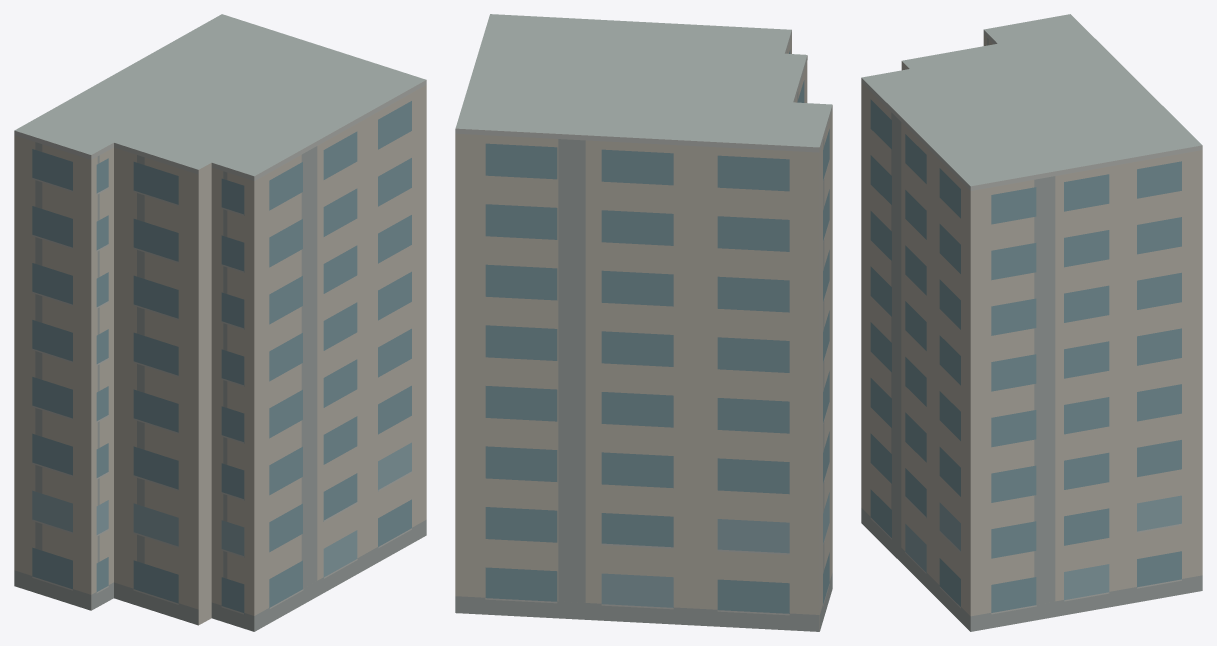
The model's file is survey-upis-33025195.glb.
The picture shows the model from 3 angles, left to right: view 1: azimuth 30°, elevation 25°; view 2: azimuth 150°, elevation 25°; view 3: azimuth 270°, elevation 25°; orthographic projection. The views are drawn at different scales.
Visible parts, largest first — view 1: survey-upis-33025195.tmp; view 2: survey-upis-33025195.tmp; view 3: survey-upis-33025195.tmp.
Boxes of the visible parts, bbox=[...] form: survey-upis-33025195.tmp: bbox=[14, 14, 426, 631]; survey-upis-33025195.tmp: bbox=[455, 14, 832, 631]; survey-upis-33025195.tmp: bbox=[861, 14, 1202, 631].
Bounding box in the file's own units: 19.28 × 23.23 × 16.13.
